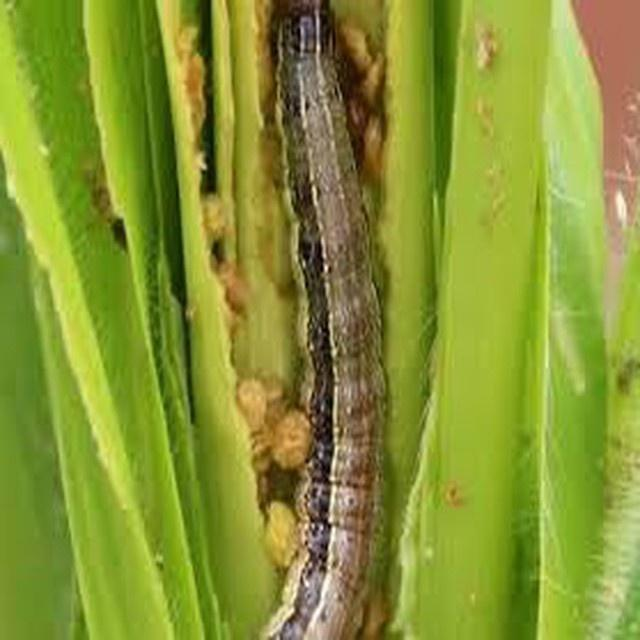gusano_cogollero: (272, 7, 388, 640)
